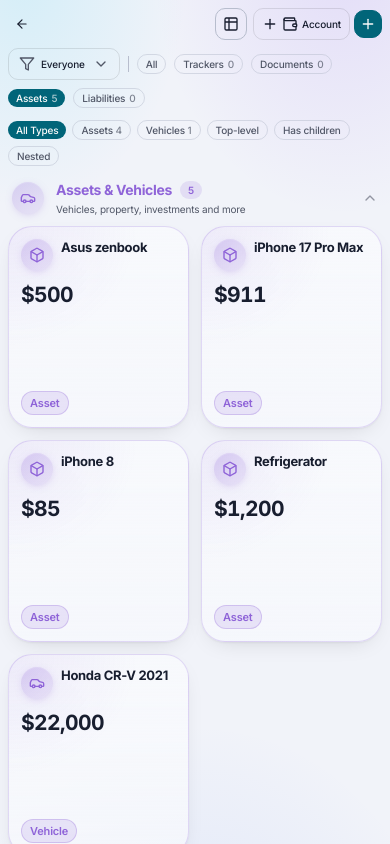
Test: asset navigation regression — pressing chips never loses assets › a filter that hides every asset shows a filtered empty state, never 'No assets yet'
Expected: the text "iPhone 17 Pro Max" is shown, x1=254 y1=239 x2=369 y2=255
Expected: the text "iPhone 8" is shown, x1=61 y1=453 x2=114 y2=469
Click the button with test id "filter-asset-nesting-nested": (34, 156) x1=8 y1=146 x2=59 y2=166
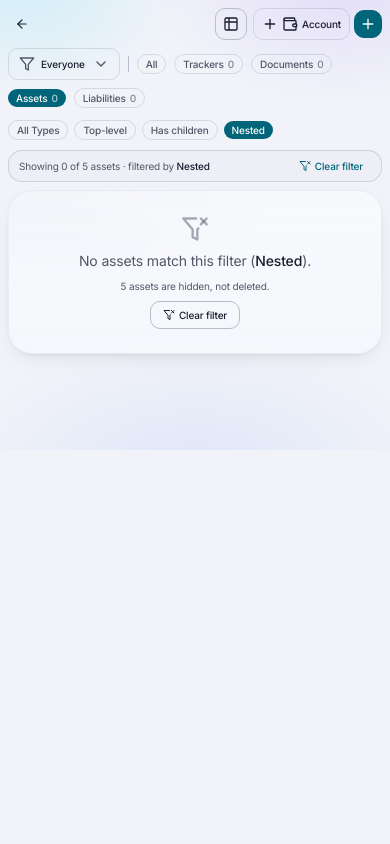
Expected: the element with test id "assets-filtered-empty" shows "hidden, not deleted", x1=176 y1=280 x2=270 y2=292
Click the button with test id "assets-filtered-empty-clear": (195, 315) x1=150 y1=301 x2=240 y2=329
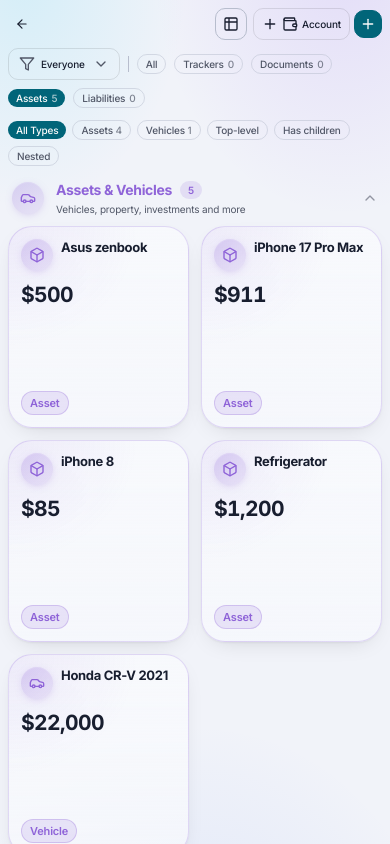
Expected: the text "iPhone 17 Pro Max" is shown, x1=254 y1=239 x2=369 y2=255
Expected: the text "iPhone 8" is shown, x1=61 y1=453 x2=114 y2=469
Expected: the text "Refrigerator" is shown, x1=254 y1=453 x2=327 y2=469
